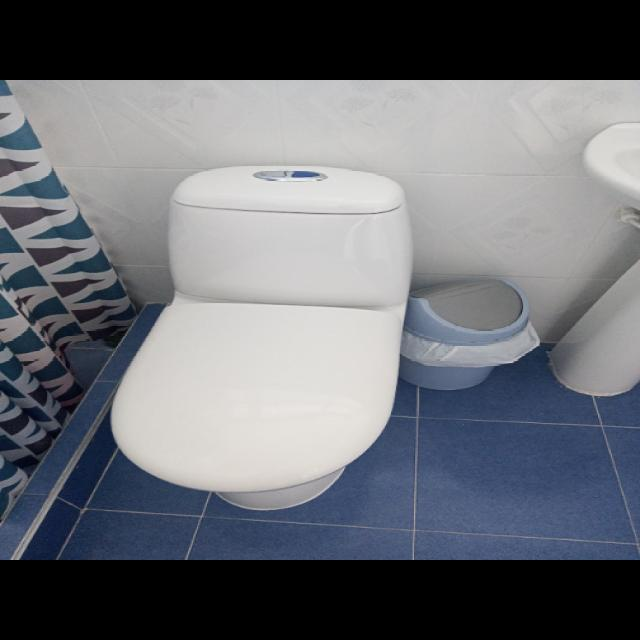toilet: (108, 163, 413, 510)
